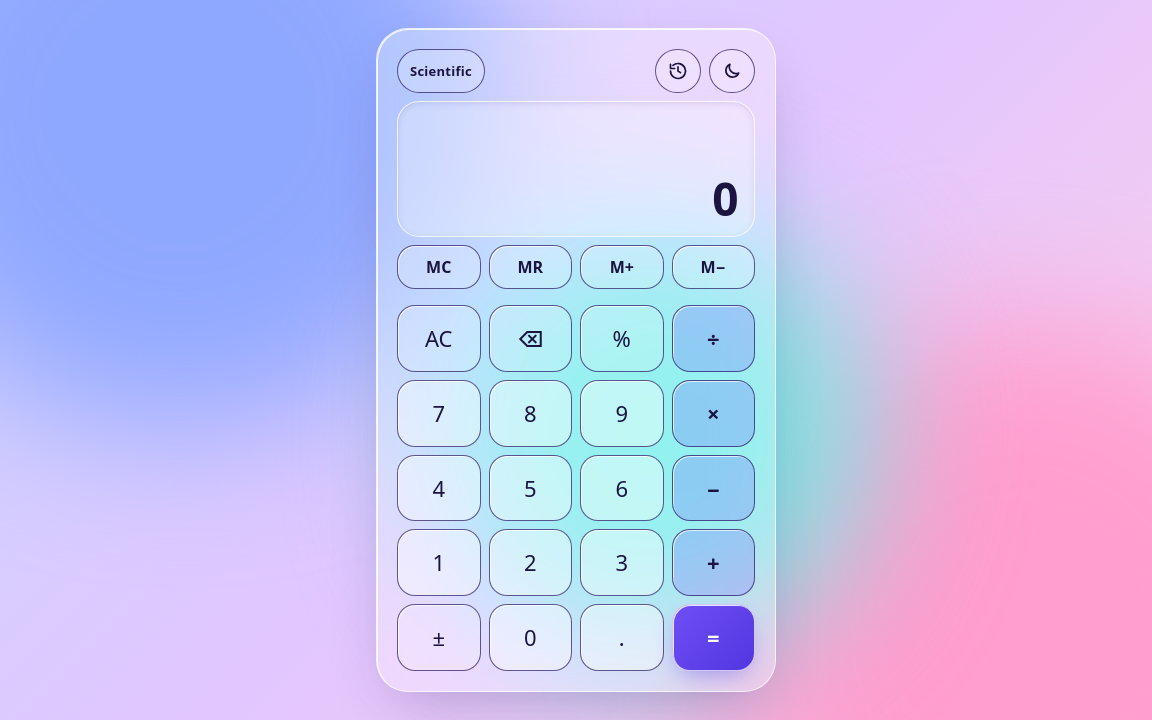
Test: history (E7-S1 to E7-S4, E6-S3) › shows an empty state
Click the button named "History" at (678, 71), box [655,49,701,93]
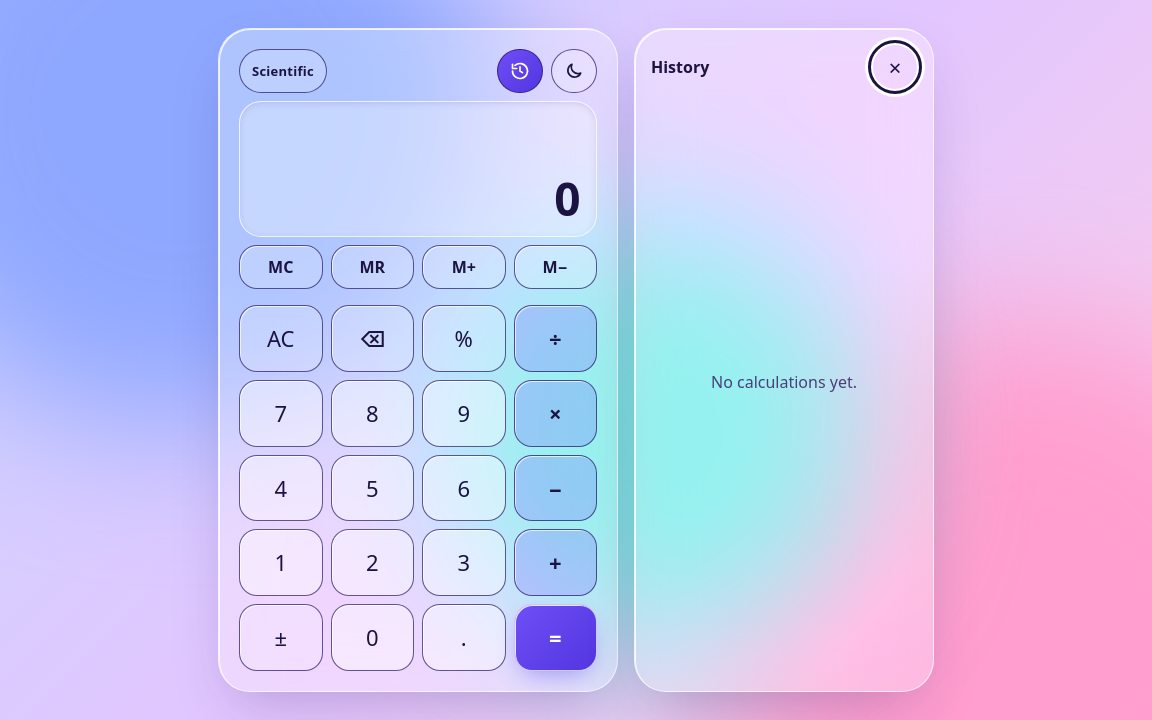
Check: the text "No calculations yet." is shown, box [711,371,857,393]
